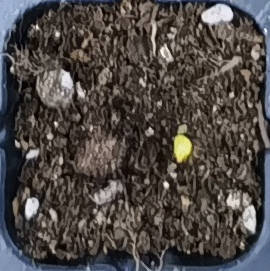pepper seed: (75, 51, 268, 216)
